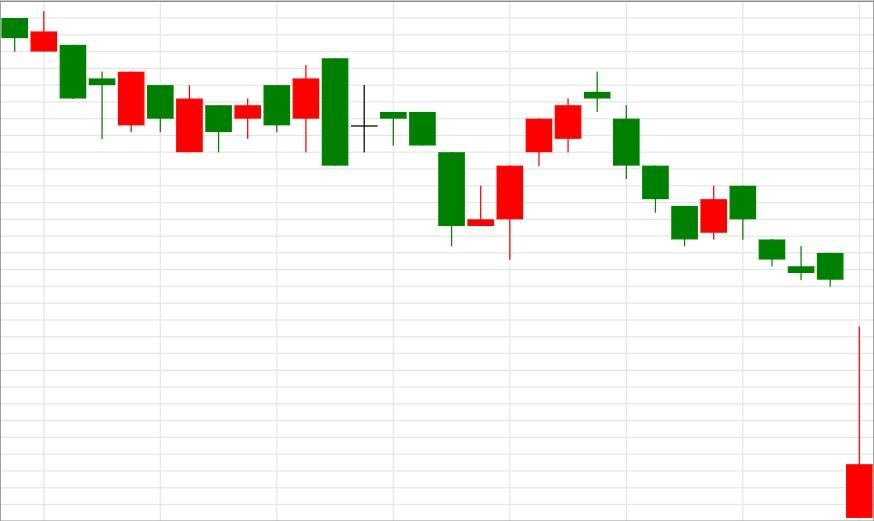morning_star_rise: (321, 58, 524, 259)
three_black_crows_fall: (466, 71, 670, 258)
